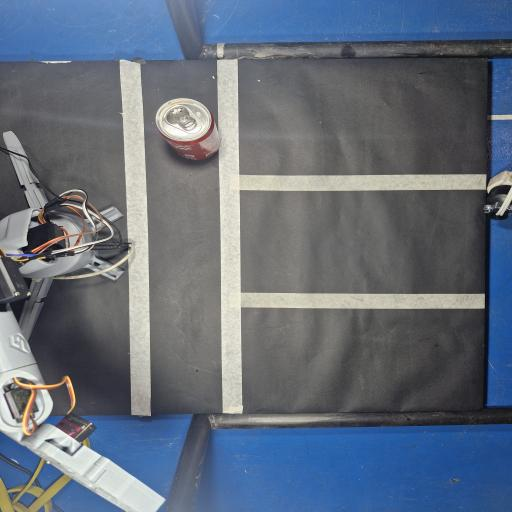lata: (155, 98, 220, 160)
